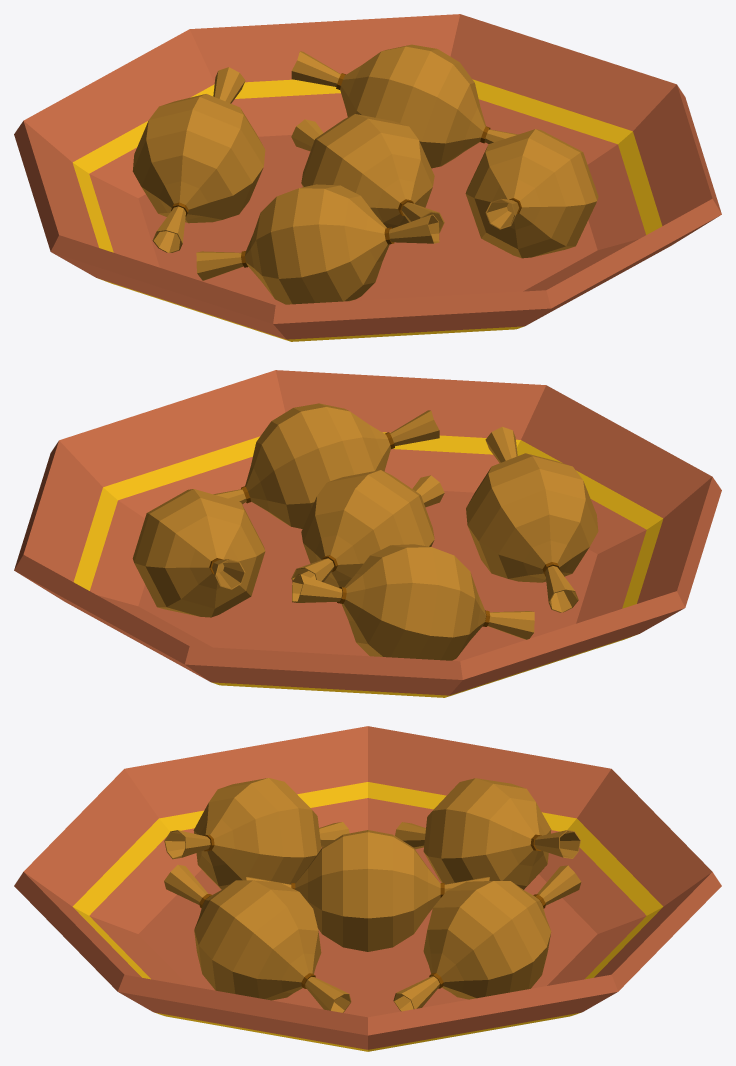
Rendered from Plato_Tamales.fbx.
3 renders of one model, top to bottom at view 1: azimuth 30°, elevation 25°; view 2: azimuth 150°, elevation 25°; view 3: azimuth 270°, elevation 25°, orthographic. The views are drawn at different scales.
Visible parts, largest first — view 1: Plato_Tamales; view 2: Plato_Tamales; view 3: Plato_Tamales.
Boxes of the visible parts, box(x1,y1,x2,y2) form: Plato_Tamales: box(14, 14, 721, 341); Plato_Tamales: box(14, 370, 721, 697); Plato_Tamales: box(14, 726, 721, 1051).
Size of the model in its own units: 38.53 by 7.07 by 38.53.
